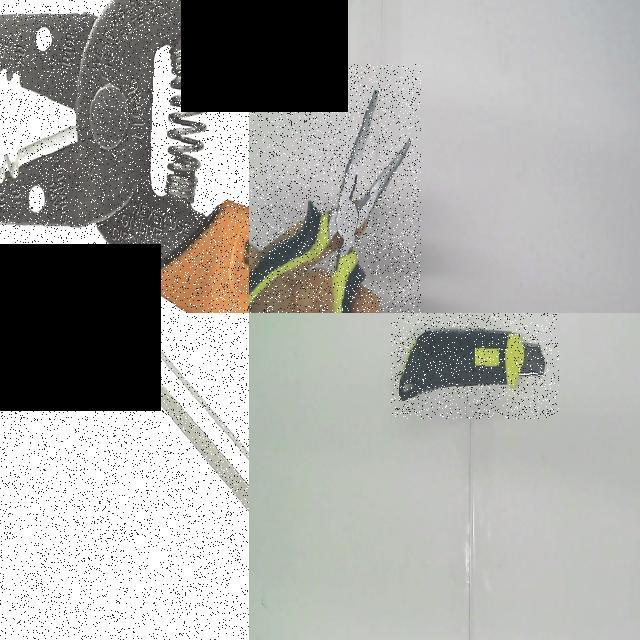estilete: (399, 329, 544, 400)
